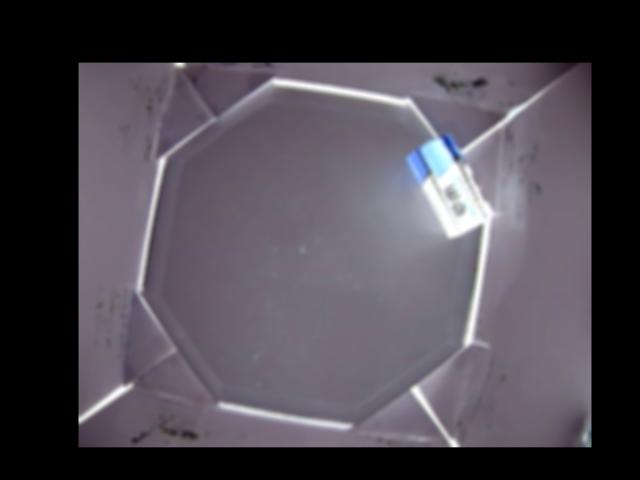Battery: (405, 137, 496, 235)
